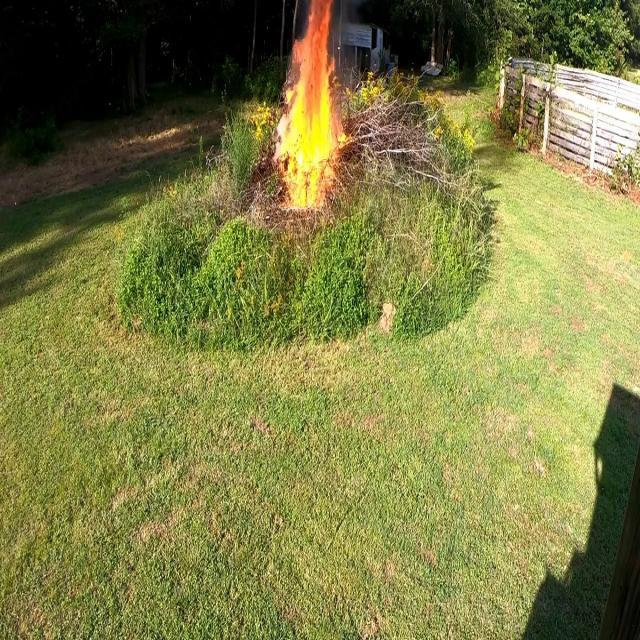Fire: (272, 2, 348, 209)
